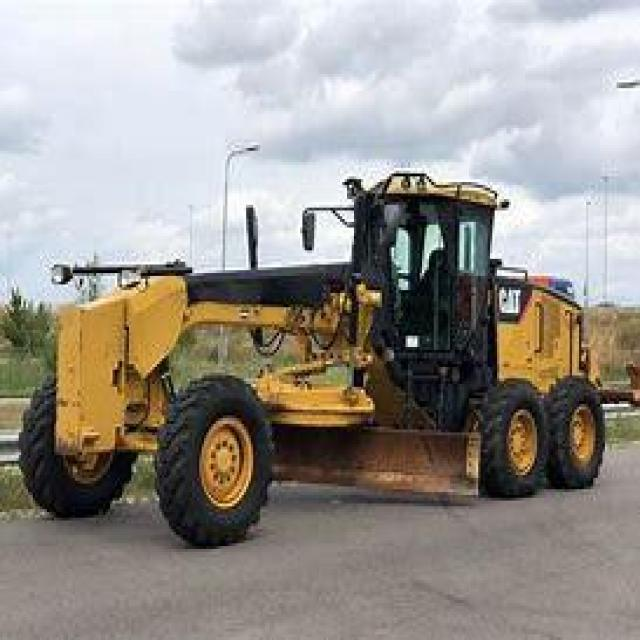Grader: (16, 151, 628, 566)
